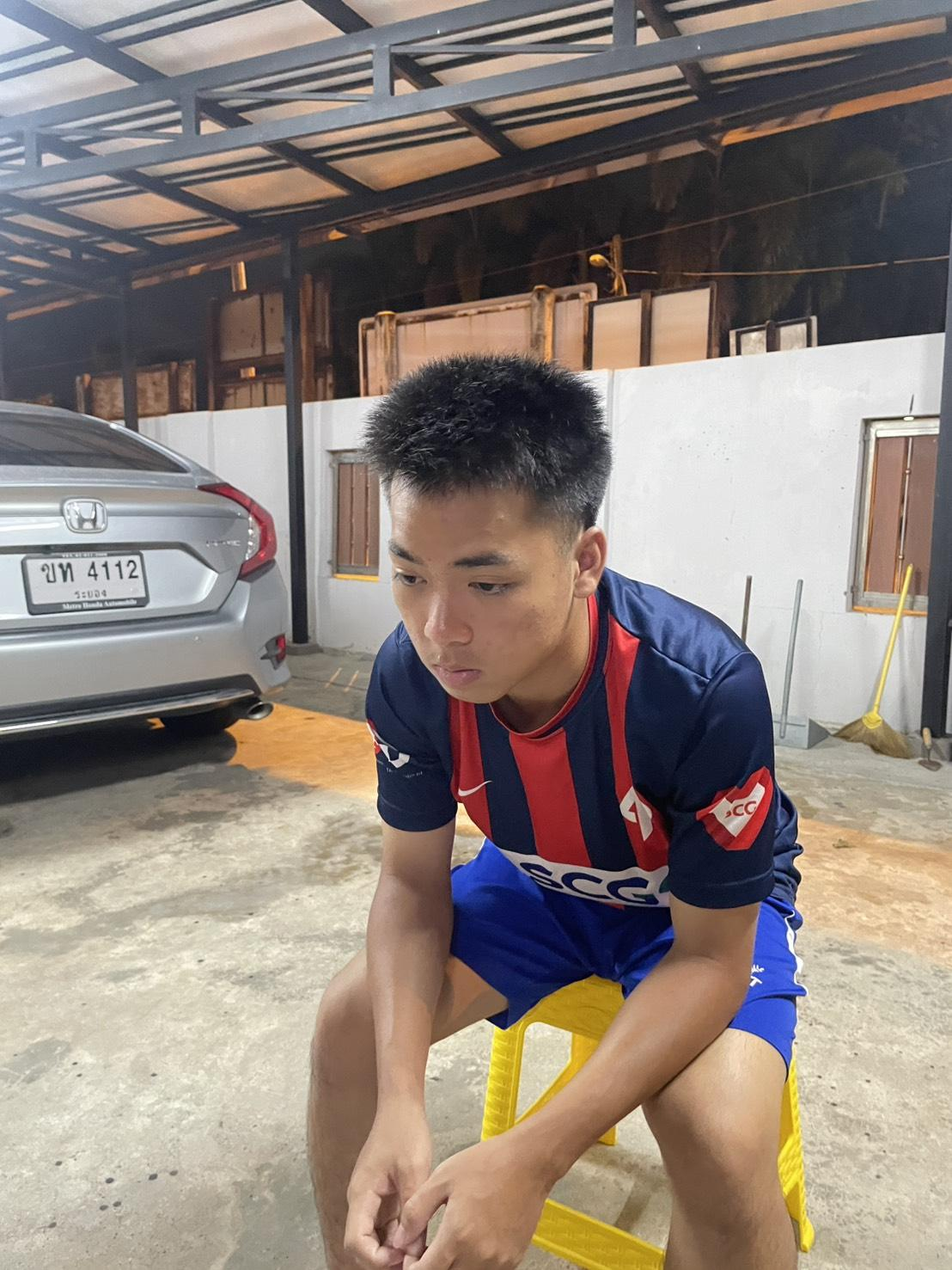BadPosture: (360, 349, 802, 1026), (364, 355, 801, 909)
